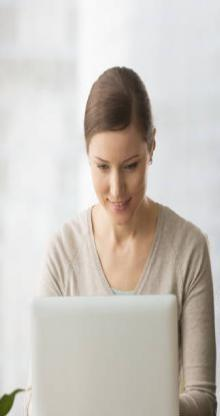good: (37, 57, 212, 295)
